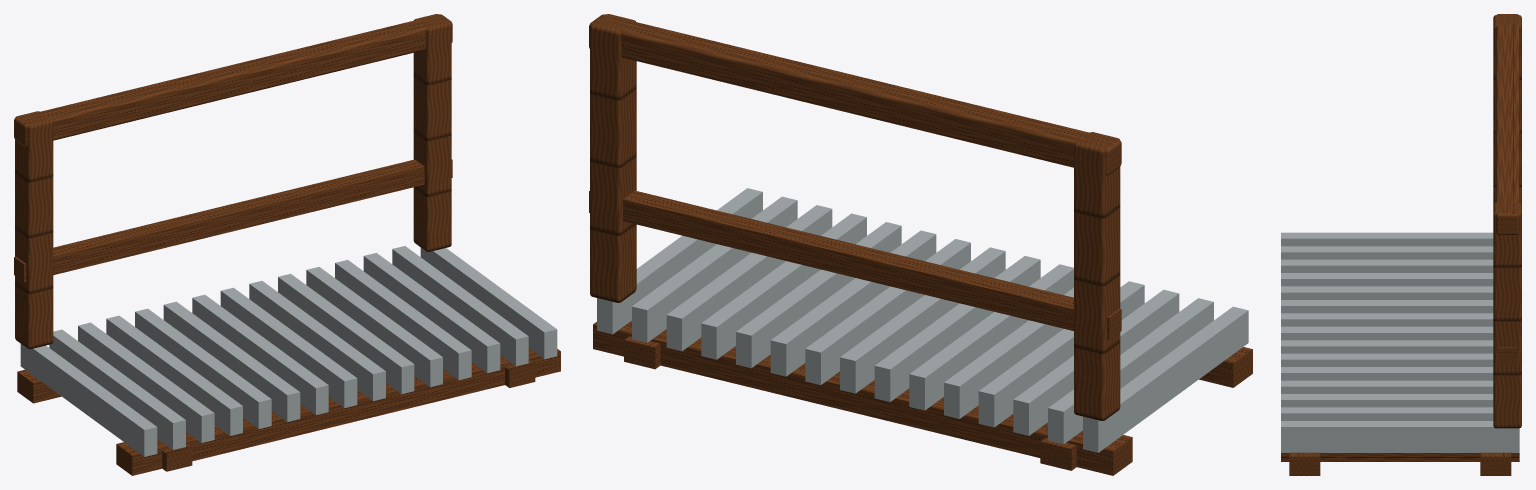
Rendered from fortified-compound-expansion-perimeter-catwalk-bdd60ae7__27111.glb.
3 views of the same model, side by side, from view 1: azimuth 30°, elevation 25°; view 2: azimuth 150°, elevation 25°; view 3: azimuth 270°, elevation 25° (orthographic). The views are drawn at different scales.
Parts seen in each view (by area): view 1: perimeter-catwalk; view 2: perimeter-catwalk; view 3: perimeter-catwalk.
Part boxes in pixels (bbox=[...]): perimeter-catwalk: bbox=[14, 14, 560, 475]; perimeter-catwalk: bbox=[589, 14, 1252, 475]; perimeter-catwalk: bbox=[1281, 14, 1521, 475].
Bounding box in the file's own units: 2 × 1.21 × 1.01.
2 materials, 1 textured.
